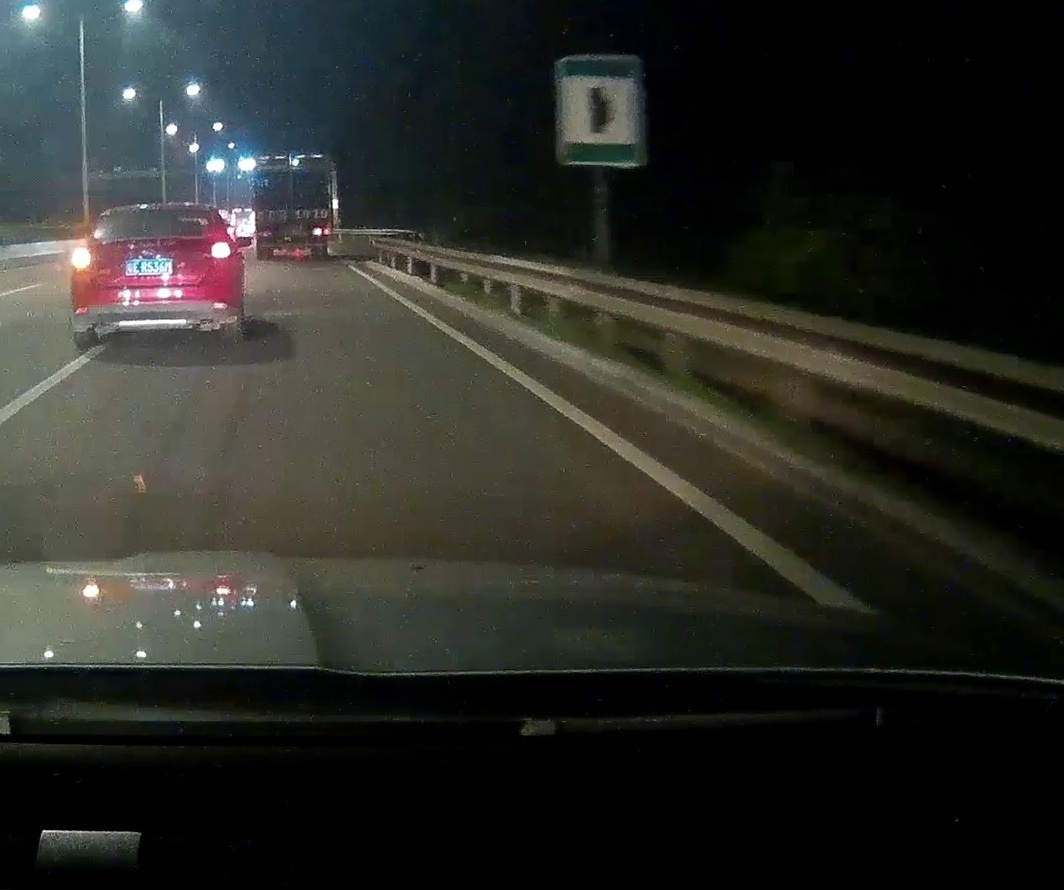L_light: (69, 246, 103, 271), (255, 229, 271, 238)
R_light: (200, 240, 233, 260), (311, 226, 331, 238)
T_light: (146, 207, 167, 211), (285, 157, 301, 162)
night-left: (69, 203, 243, 353)
night-right: (252, 154, 334, 262)
